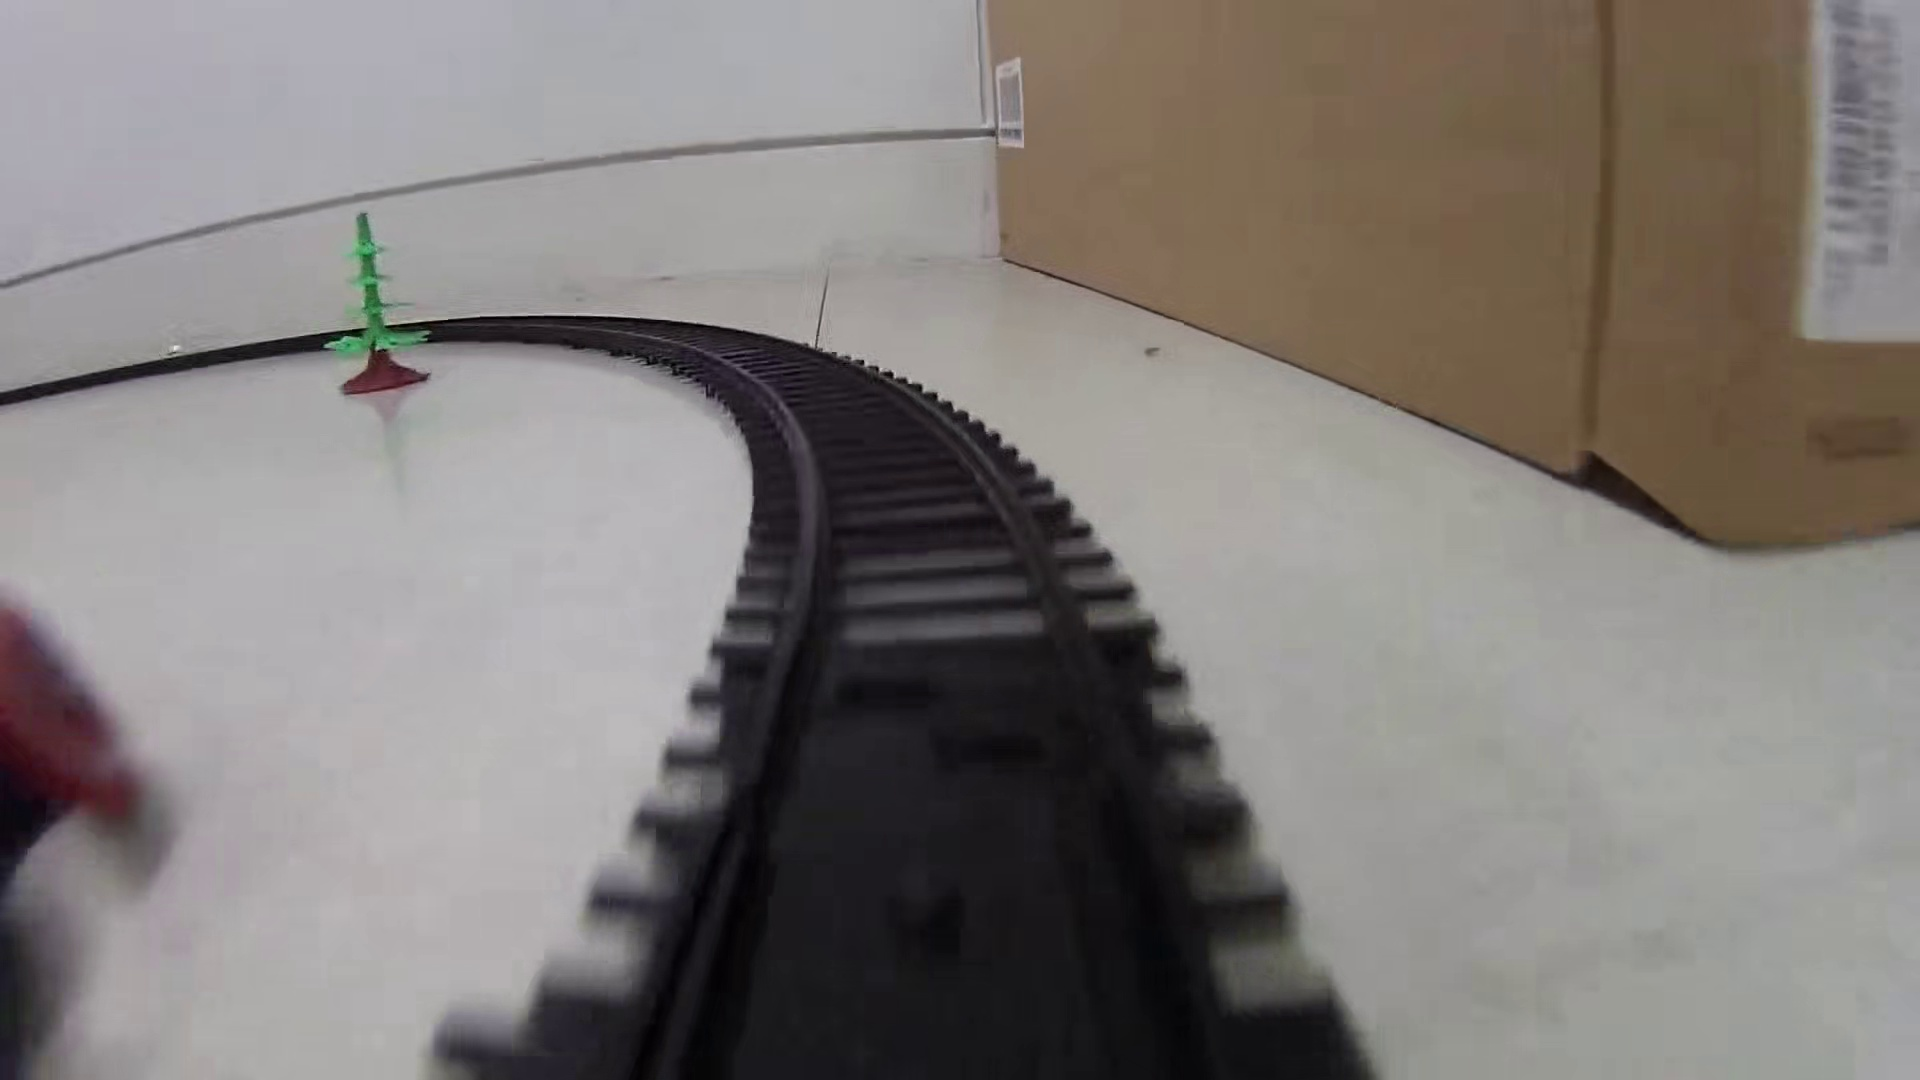tree: (323, 209, 434, 396)
